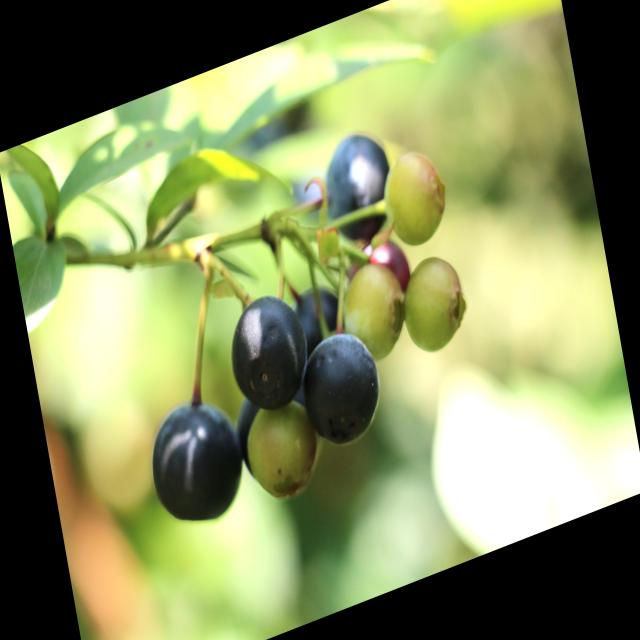blueberry: (143, 386, 248, 536), (299, 319, 388, 456), (224, 284, 313, 420), (317, 122, 399, 250), (344, 232, 415, 329), (286, 277, 348, 382), (232, 386, 282, 480)
blueberry-unripe: (240, 388, 324, 507), (394, 244, 472, 363), (336, 257, 410, 369), (380, 141, 450, 251)
